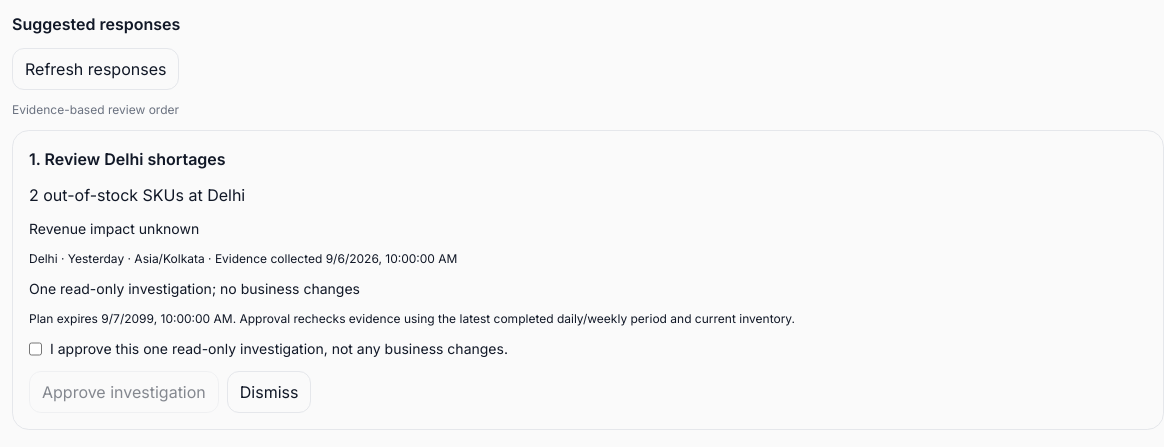
human response approval › clears inaccessible evidence after a refresh failure
The width and height of the screenshot is (1164, 447).
Expected: the text "2 out-of-stock SKUs at Delhi" is shown, [29,185,245,205]
Click the button "Refresh responses" at [96, 69], box [12,48,179,90]
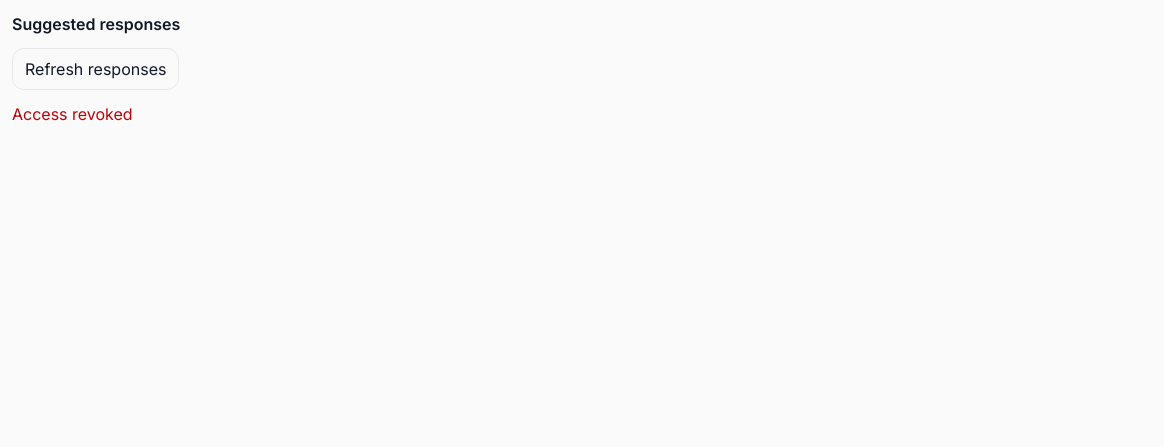
Expected: the text "2 out-of-stock SKUs at Delhi" is gone
